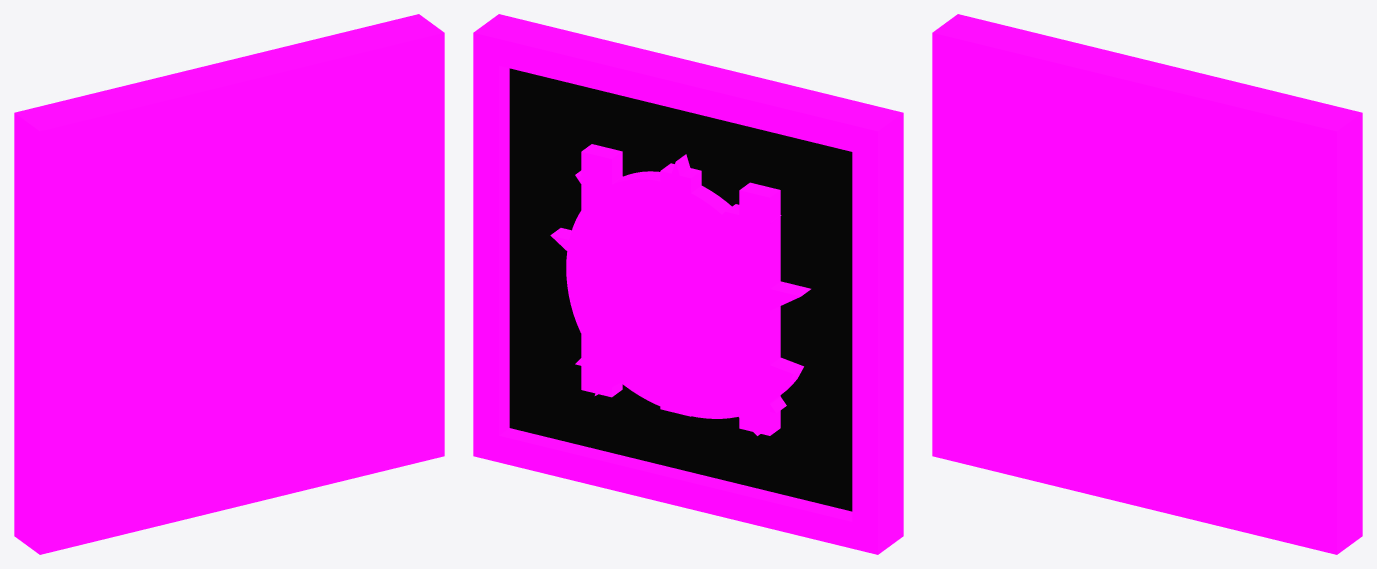
File: ent_symbol_display.glb
3 renders of one model, left to right at view 1: azimuth 30°, elevation 25°; view 2: azimuth 150°, elevation 25°; view 3: azimuth 330°, elevation 25°, orthographic.
Visible parts, largest first — view 1: SymbolDisplayFrame; view 2: SymbolDisplayFrame, SymbolSpiral, SymbolTimelines, SymbolCircle, SymbolStar, SymbolX; view 3: SymbolDisplayFrame.
Part boxes in pixels (x1=…): SymbolDisplayFrame: x1=14, y1=14, x2=444, y2=554; SymbolDisplayFrame: x1=473, y1=14, x2=903, y2=554; SymbolSpiral: x1=566, y1=171, x2=803, y2=418; SymbolTimelines: x1=581, y1=144, x2=780, y2=435; SymbolCircle: x1=612, y1=213, x2=739, y2=384; SymbolStar: x1=550, y1=154, x2=810, y2=435; SymbolX: x1=575, y1=170, x2=786, y2=413; SymbolDisplayFrame: x1=932, y1=14, x2=1362, y2=554.
Bounding box in the file's own units: 1.5 × 1.5 × 0.1646.
